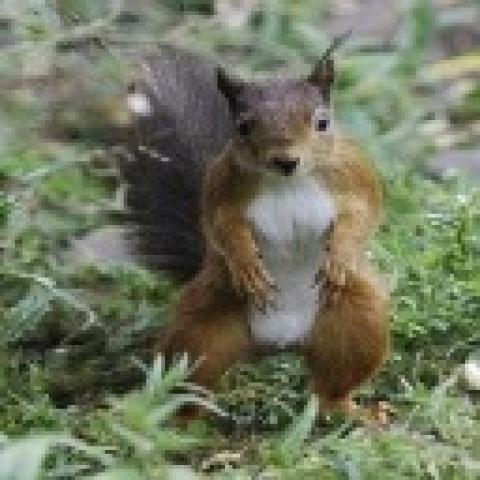small_animal: (129, 26, 398, 428)
